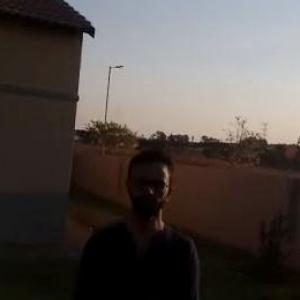follow: (67, 137, 204, 299)
